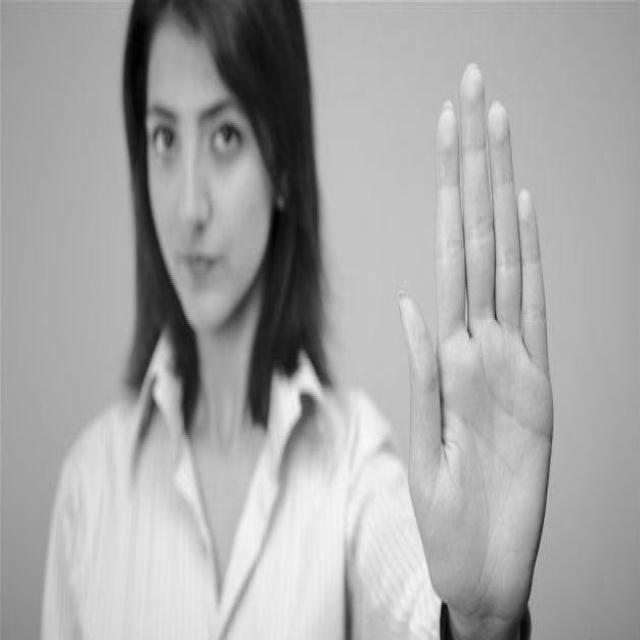stop: (392, 54, 557, 640)
